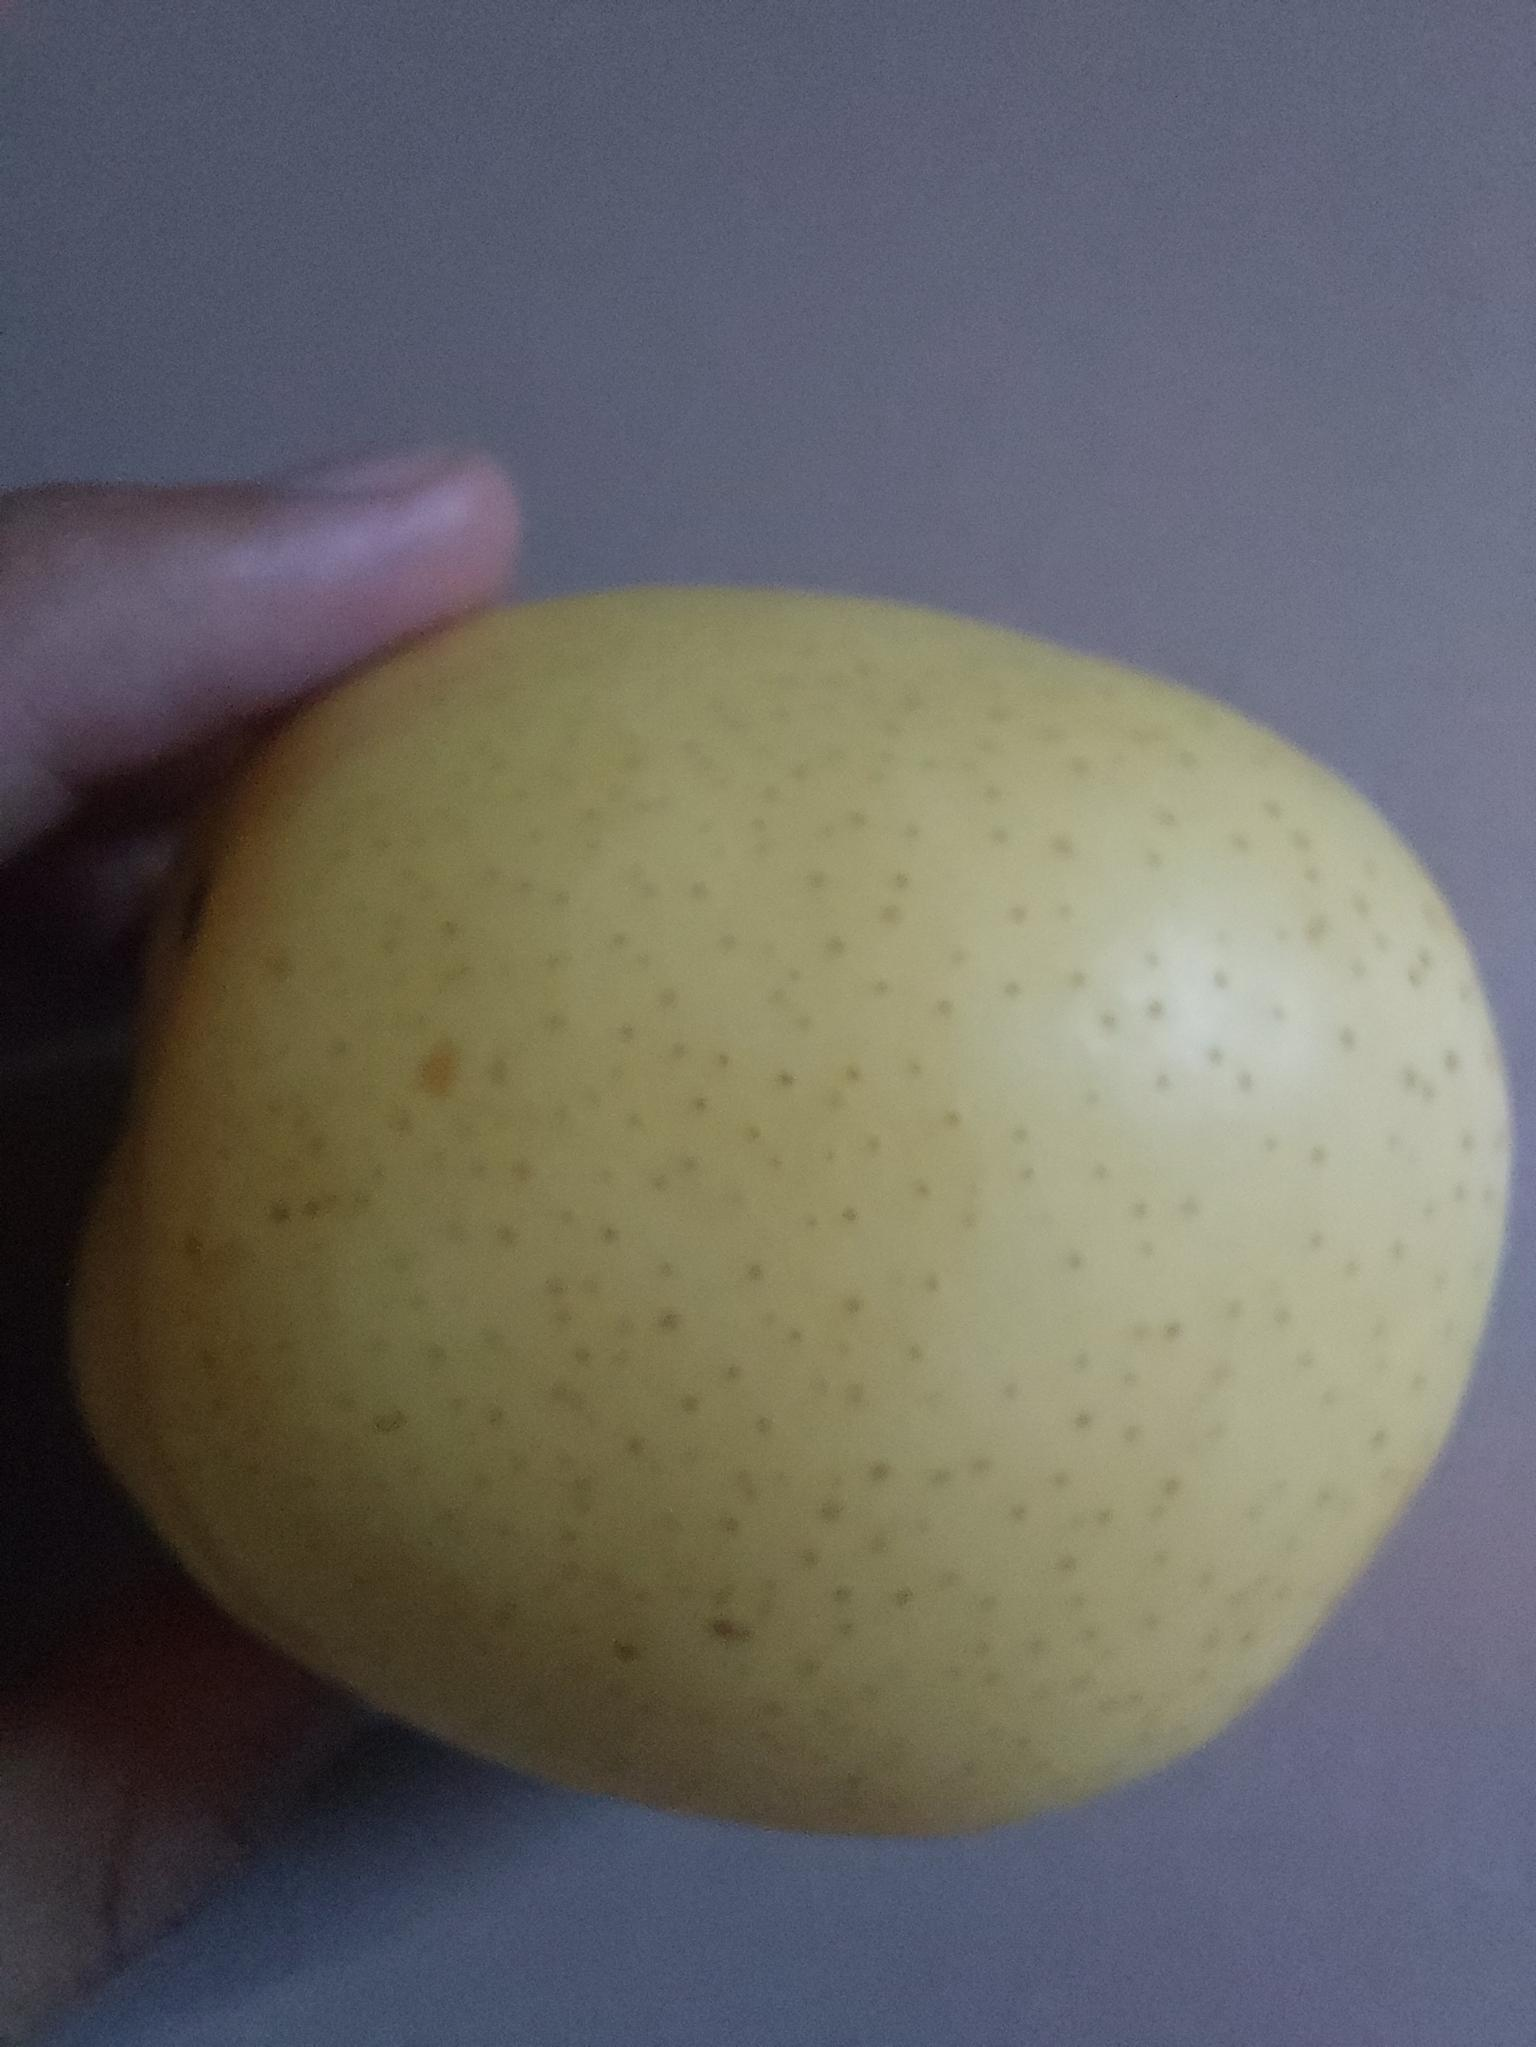Good Pear: (68, 586, 1536, 1844)
